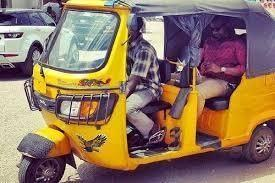keke: (10, 2, 275, 182)
